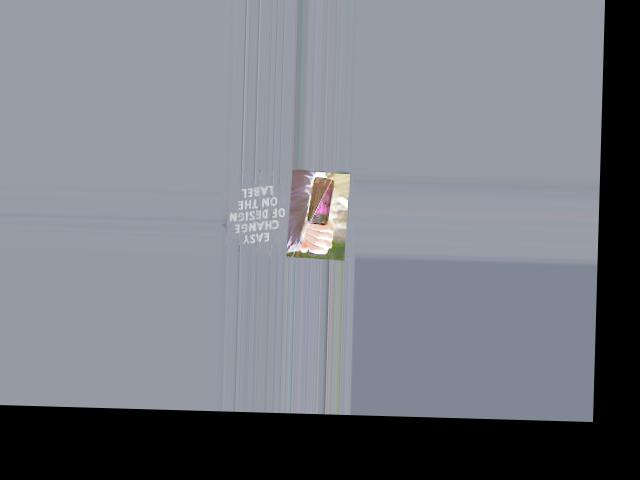beer: (305, 176, 333, 255)
